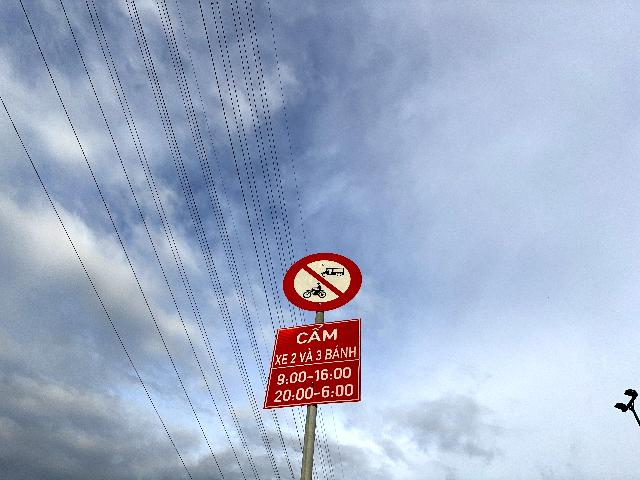cam-xe-2-banh-3-banh: (283, 252, 362, 312)
